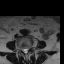CCS_normal: (24, 46, 26, 55)
LFS_stenosis: (28, 45, 30, 50)
LLS_normal: (26, 46, 28, 54)
RFS_normal: (20, 46, 22, 52)
RLS_normal: (22, 47, 24, 53)
